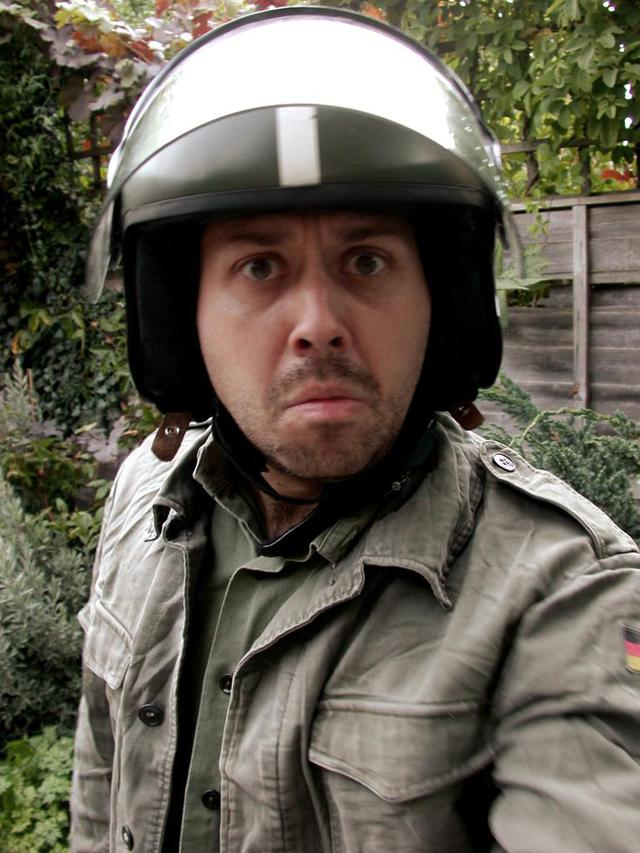helmet: (102, 39, 525, 402)
